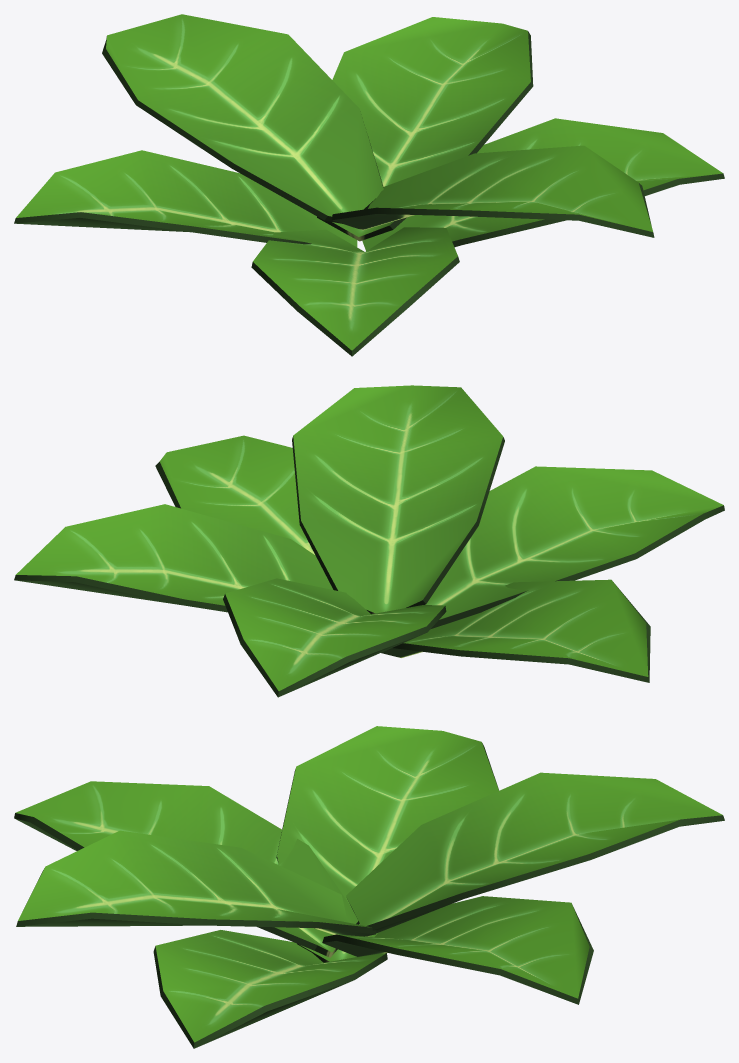
File: Bush.FBX
3 renders of one model, top to bottom at view 1: azimuth 30°, elevation 25°; view 2: azimuth 150°, elevation 25°; view 3: azimuth 270°, elevation 25°, orthographic. The views are drawn at different scales.
Visible parts, largest first — view 1: Hoja014, Hoja009, Hoja012, Hoja013, Hoja011, Hoja010; view 2: Hoja013, Hoja011, Hoja009, Hoja012, Hoja014, Hoja010; view 3: Hoja014, Hoja013, Hoja012, Hoja011, Hoja009, Hoja010.
Part boxes in pixels (bbox=[...]): Hoja014: bbox=[102, 14, 383, 223]; Hoja009: bbox=[317, 17, 533, 241]; Hoja012: bbox=[14, 150, 357, 246]; Hoja013: bbox=[332, 145, 654, 237]; Hoja011: bbox=[251, 227, 459, 356]; Hoja010: bbox=[362, 118, 724, 250]; Hoja013: bbox=[292, 385, 504, 614]; Hoja011: bbox=[425, 466, 724, 628]; Hoja009: bbox=[14, 504, 333, 612]; Hoja012: bbox=[381, 579, 650, 682]; Hoja014: bbox=[223, 578, 446, 697]; Hoja010: bbox=[155, 435, 314, 554]; Hoja014: bbox=[346, 772, 724, 936]; Hoja013: bbox=[16, 830, 376, 936]; Hoja012: bbox=[276, 726, 498, 962]; Hoja011: bbox=[14, 781, 359, 957]; Hoja009: bbox=[322, 896, 593, 1004]; Hoja010: bbox=[153, 930, 387, 1048].
Size of the model in its own units: 111 by 25.24 by 111.
